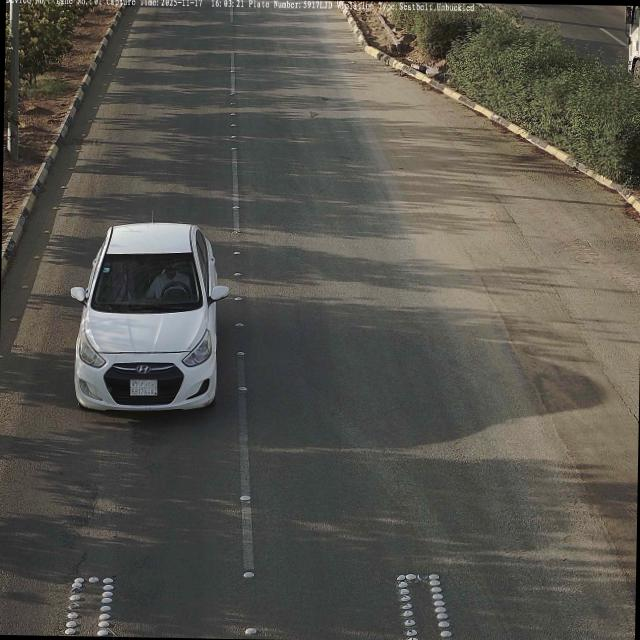person_without_seatbelt: (146, 256, 190, 301)
